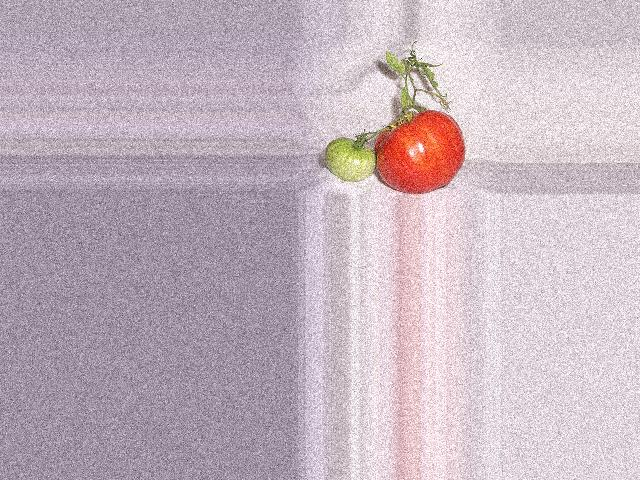tomato: (374, 110, 465, 193)
